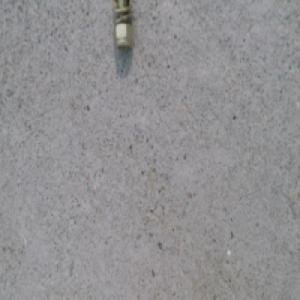BoltNutSet: (110, 2, 130, 52)
